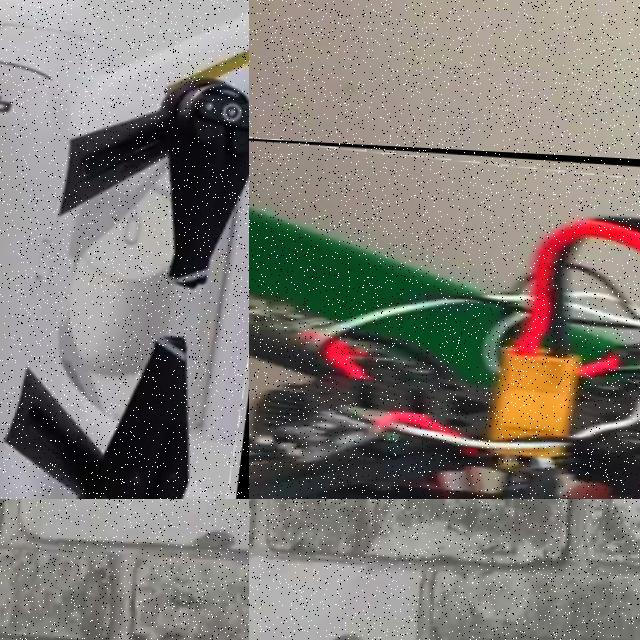drone: (249, 132, 640, 499), (0, 0, 249, 499)
